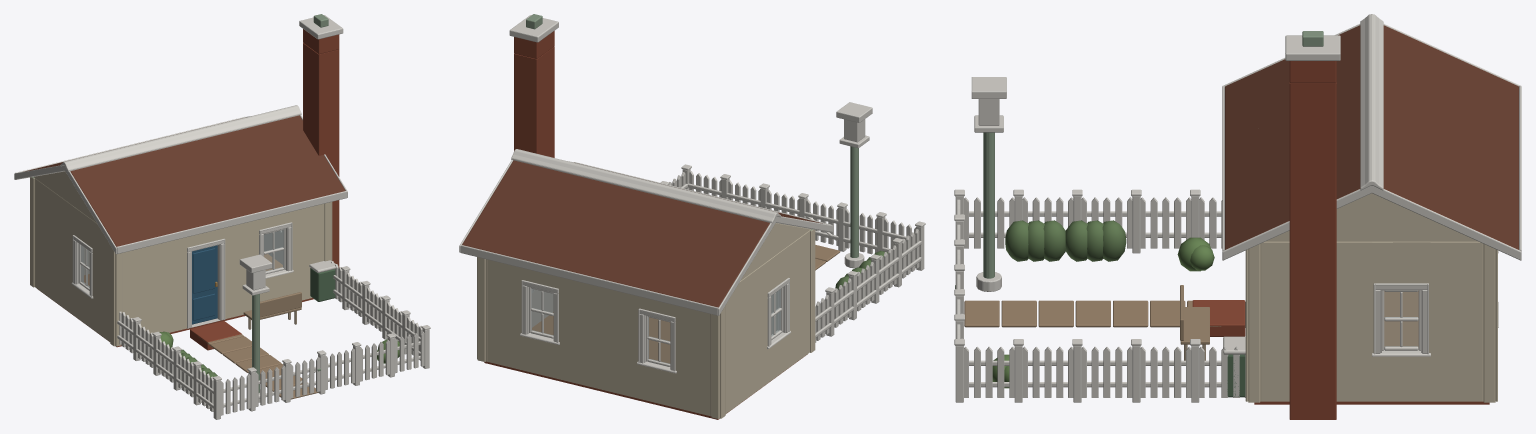
Rendered from Starter_Cottage.glb.
The picture shows the model from 3 angles, left to right: view 1: azimuth 30°, elevation 25°; view 2: azimuth 150°, elevation 25°; view 3: azimuth 270°, elevation 25°; orthographic projection. The views are drawn at different scales.
Visible parts, largest first — view 1: SM_Kit_Chimney__b0119, SM_Kit_Wall__b0011, SM_Kit_Wall__b0014, SM_Kit_Wall__b0017, SM_Kit_Wall__b0010, SM_Kit_Wall__b0003, SM_Kit_Wall__b0004, SM_Kit_Wall_Window__b0001, SM_Kit_Door_Panel__b0013, SM_Kit_Wall__b0000, SM_Kit_Wall_Window__b0015, SM_Kit_Wall_Door__b0012 (+53 smaller); view 2: SM_Kit_Chimney__b0119, SM_Kit_Wall__b0021, SM_Kit_Wall__b0022, SM_Kit_Wall__b0025, SM_Kit_Wall__b0018, SM_Kit_Wall_Window__b0019, SM_Kit_Wall_Window__b0023, SM_Kit_Wall__b0003, SM_Kit_Wall__b0000, SM_Kit_Wall_Window__b0001, SM_Kit_Prop_LampPost__b0163, SM_Kit_Wall__b0004 (+48 smaller); view 3: SM_Kit_Chimney__b0119, SM_Kit_Wall__b0009, SM_Kit_Wall_Window__b0007, SM_Kit_Wall__b0006, SM_Kit_Wall__b0005, SM_Kit_Prop_LampPost__b0163, SM_Kit_Post__b0028, SM_Kit_Post__b0029, SM_Kit_Window_DoubleHung__b0008, SM_Kit_Hedge_100__b0162, SM_Kit_Hedge_100__b0161, SM_Kit_Gable_Low_1_R__b0116 (+79 smaller).
Part boxes in pixels (x1,y1,x2,y2): SM_Kit_Chimney__b0119: [299, 14, 343, 267]; SM_Kit_Wall__b0011: [153, 237, 188, 332]; SM_Kit_Wall__b0014: [223, 220, 257, 318]; SM_Kit_Wall__b0017: [293, 204, 324, 300]; SM_Kit_Wall__b0010: [123, 245, 153, 334]; SM_Kit_Wall__b0003: [53, 191, 73, 314]; SM_Kit_Wall__b0004: [34, 178, 53, 299]; SM_Kit_Wall_Window__b0001: [71, 206, 93, 329]; SM_Kit_Door_Panel__b0013: [192, 245, 217, 324]; SM_Kit_Wall__b0000: [93, 221, 110, 341]; SM_Kit_Wall_Window__b0015: [258, 211, 293, 301]; SM_Kit_Wall_Door__b0012: [187, 228, 225, 328]; SM_Kit_Chimney__b0119: [509, 14, 558, 157]; SM_Kit_Wall__b0021: [599, 287, 637, 398]; SM_Kit_Wall__b0022: [560, 277, 598, 388]; SM_Kit_Wall__b0025: [485, 259, 520, 369]; SM_Kit_Wall__b0018: [677, 306, 710, 416]; SM_Kit_Wall_Window__b0019: [637, 296, 676, 407]; SM_Kit_Wall_Window__b0023: [520, 268, 559, 379]; SM_Kit_Wall__b0003: [744, 262, 766, 399]; SM_Kit_Wall__b0000: [789, 230, 809, 367]; SM_Kit_Wall_Window__b0001: [767, 245, 791, 383]; SM_Kit_Prop_LampPost__b0163: [836, 102, 872, 268]; SM_Kit_Wall__b0004: [725, 278, 744, 413]; SM_Kit_Chimney__b0119: [1285, 31, 1340, 419]; SM_Kit_Wall__b0009: [1431, 241, 1483, 401]; SM_Kit_Wall_Window__b0007: [1372, 241, 1430, 401]; SM_Kit_Wall__b0006: [1336, 241, 1371, 401]; SM_Kit_Wall__b0005: [1260, 241, 1289, 401]; SM_Kit_Prop_LampPost__b0163: [971, 77, 1006, 291]; SM_Kit_Post__b0028: [1245, 243, 1261, 402]; SM_Kit_Post__b0029: [1482, 243, 1497, 402]; SM_Kit_Window_DoubleHung__b0008: [1382, 290, 1420, 350]; SM_Kit_Hedge_100__b0162: [1065, 220, 1126, 261]; SM_Kit_Hedge_100__b0161: [1005, 220, 1065, 261]; SM_Kit_Gable_Low_1_R__b0116: [1372, 193, 1430, 241].
Bounding box in the file's own units: 7.18 × 7.3 × 9.63.
